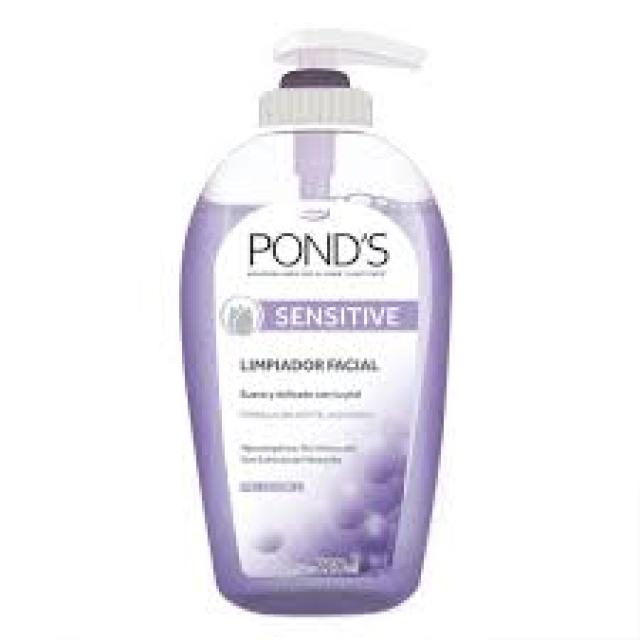Botella: (165, 9, 466, 628)
